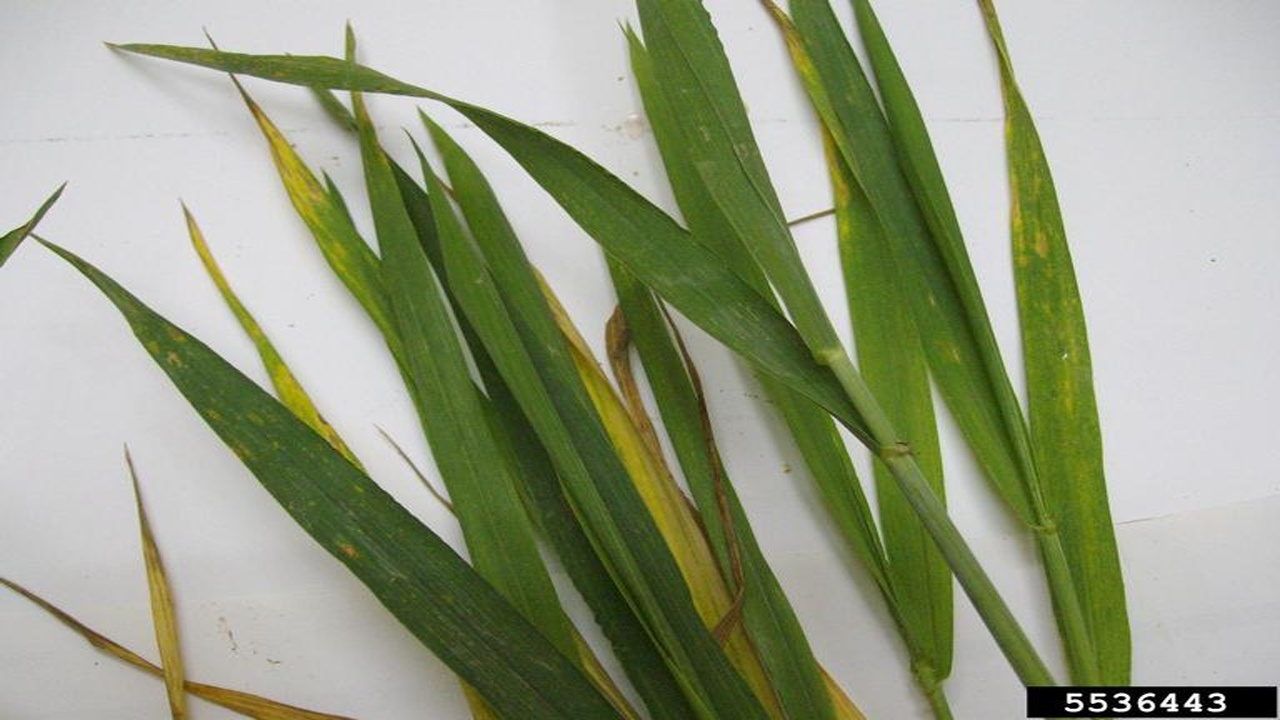tan_spot: (33, 232, 640, 720), (979, 1, 1132, 683)
